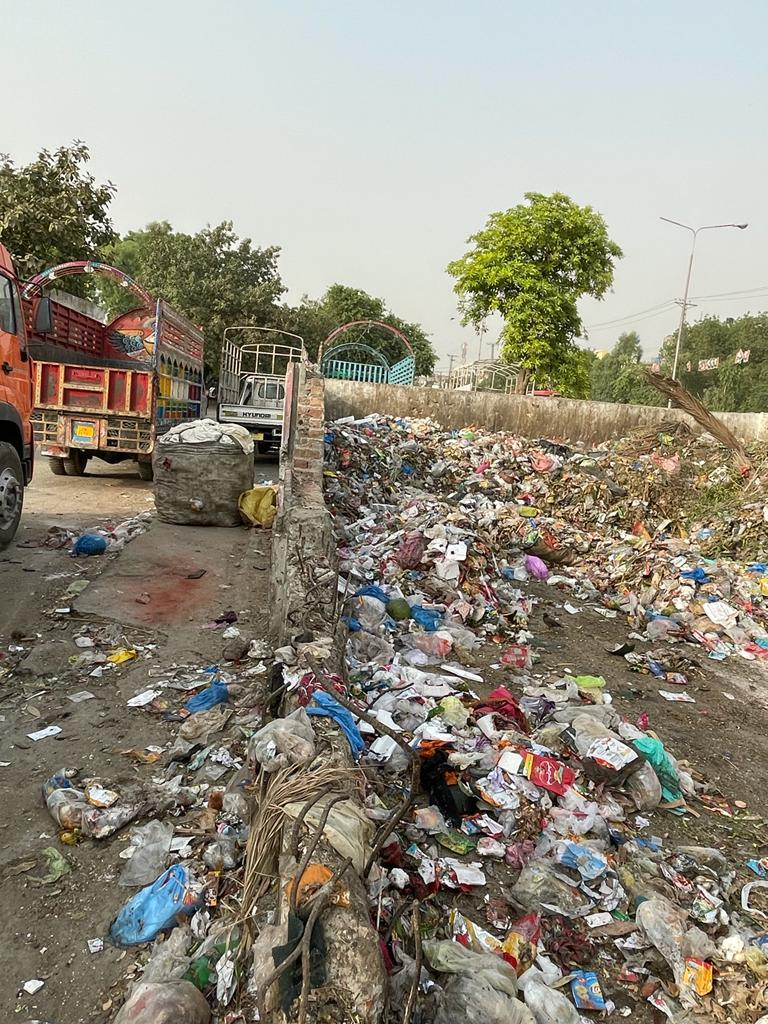garbage: (113, 412, 768, 1024)
